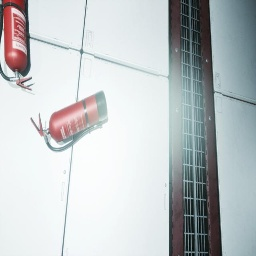FireExtinguisher ]: (30, 90, 108, 152), (0, 0, 32, 91)
